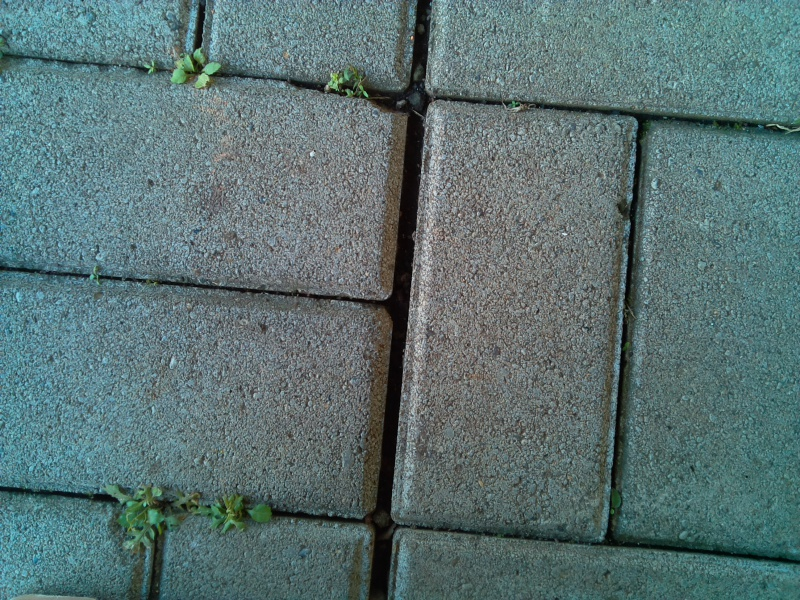Weed: (98, 476, 178, 550), (193, 492, 281, 535), (165, 47, 225, 96), (319, 65, 370, 105), (612, 335, 645, 375), (600, 482, 627, 521), (498, 94, 537, 118), (491, 520, 521, 546), (82, 262, 106, 289), (143, 273, 169, 297), (136, 55, 159, 78)
